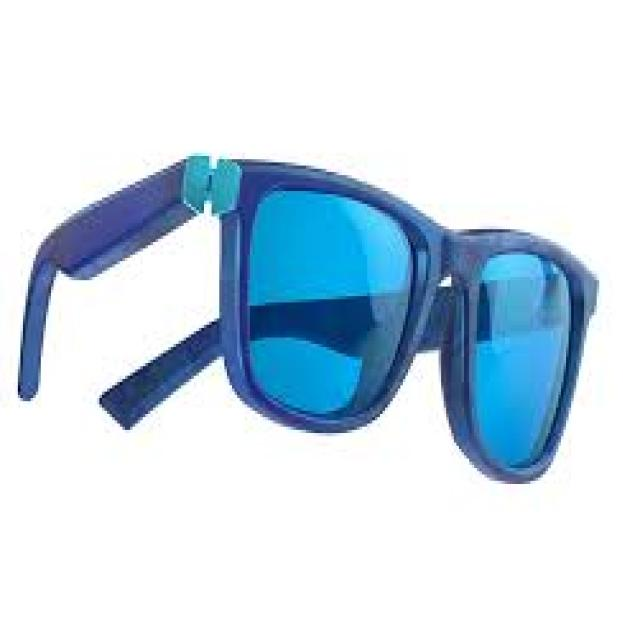sunglasses: (23, 105, 599, 494)
